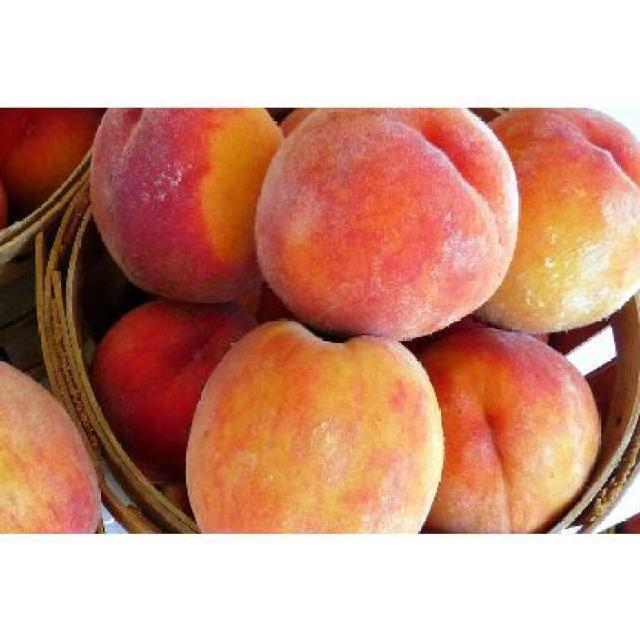Peach: (94, 106, 638, 532), (0, 354, 102, 532), (2, 106, 104, 200), (0, 180, 8, 229)
